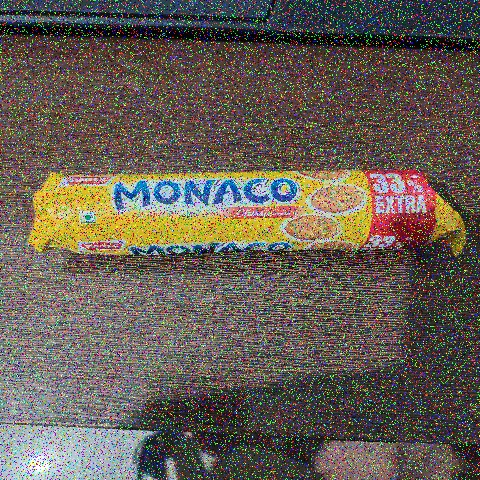monaco: (21, 157, 470, 288)
